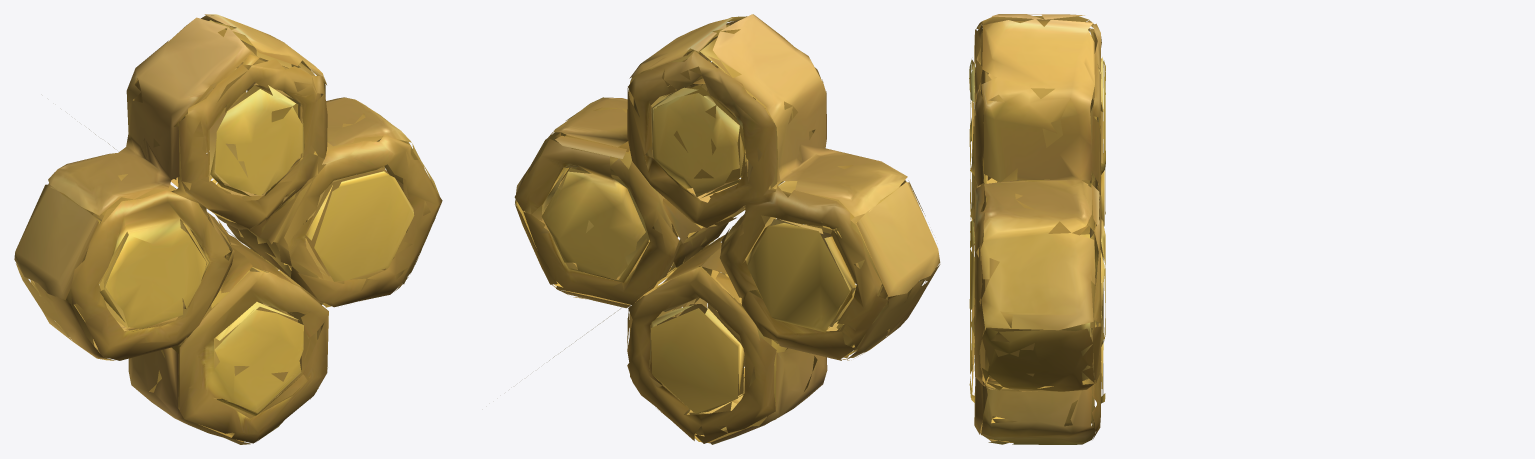
Rendered from sand.glb.
3 renders of one model, left to right at view 1: azimuth 30°, elevation 25°; view 2: azimuth 150°, elevation 25°; view 3: azimuth 270°, elevation 25°, orthographic. The views are drawn at different scales.
Bounding box in the file's own units: 0.1202 × 0.1197 × 0.1408.
Materials: 1 (1 with a texture image).
